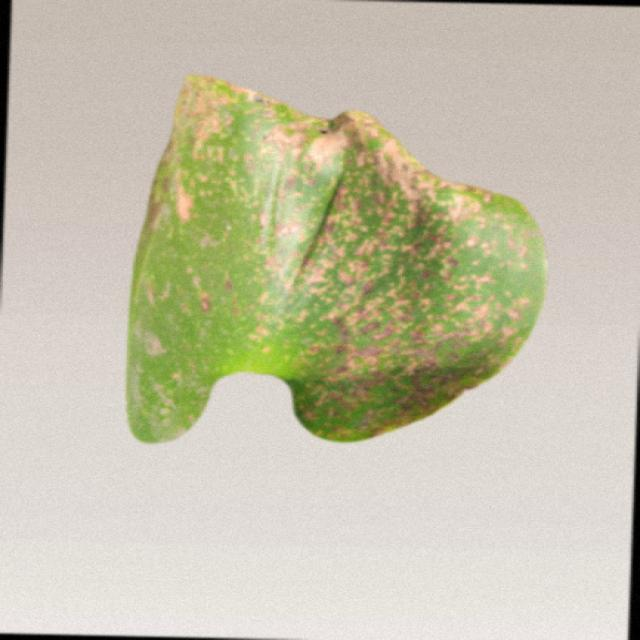daun berpenyakit bercak: (128, 75, 545, 442)
